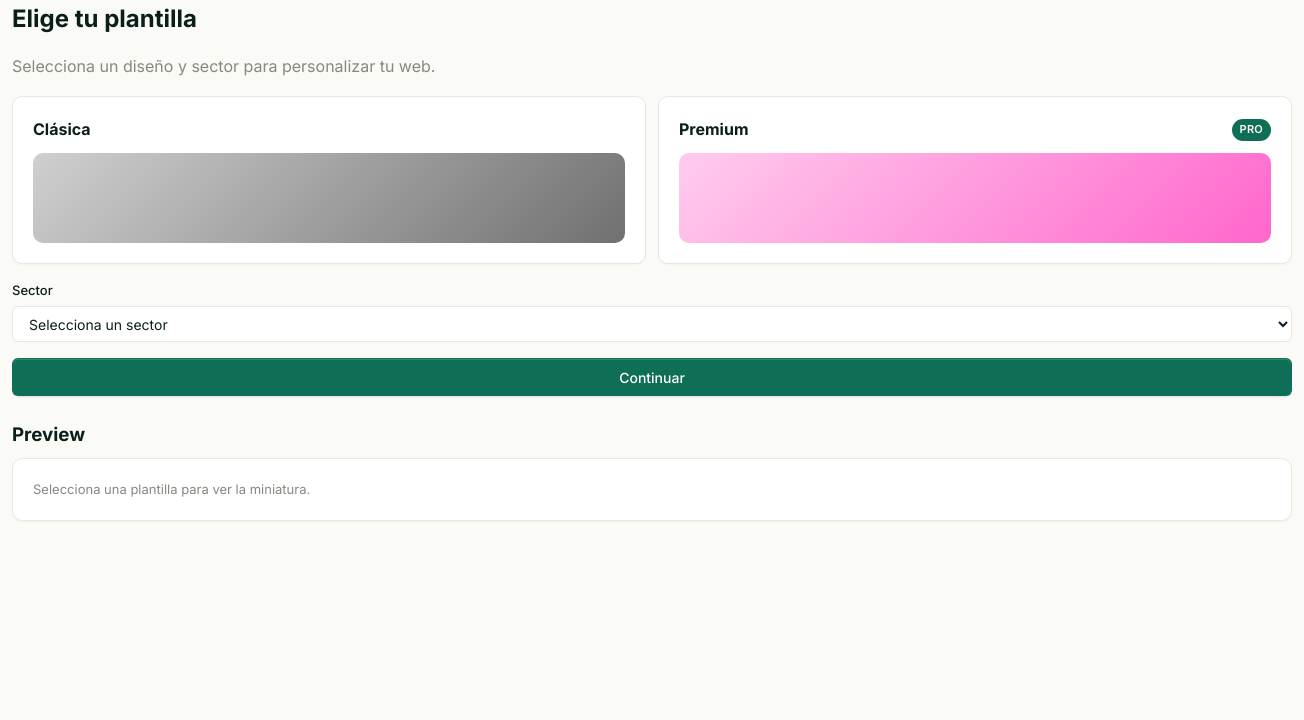
Test: Step1Plantilla › botón Continuar sin selección muestra error
Click the button "Continuar": x=652, y=377 [12,358,1292,396]
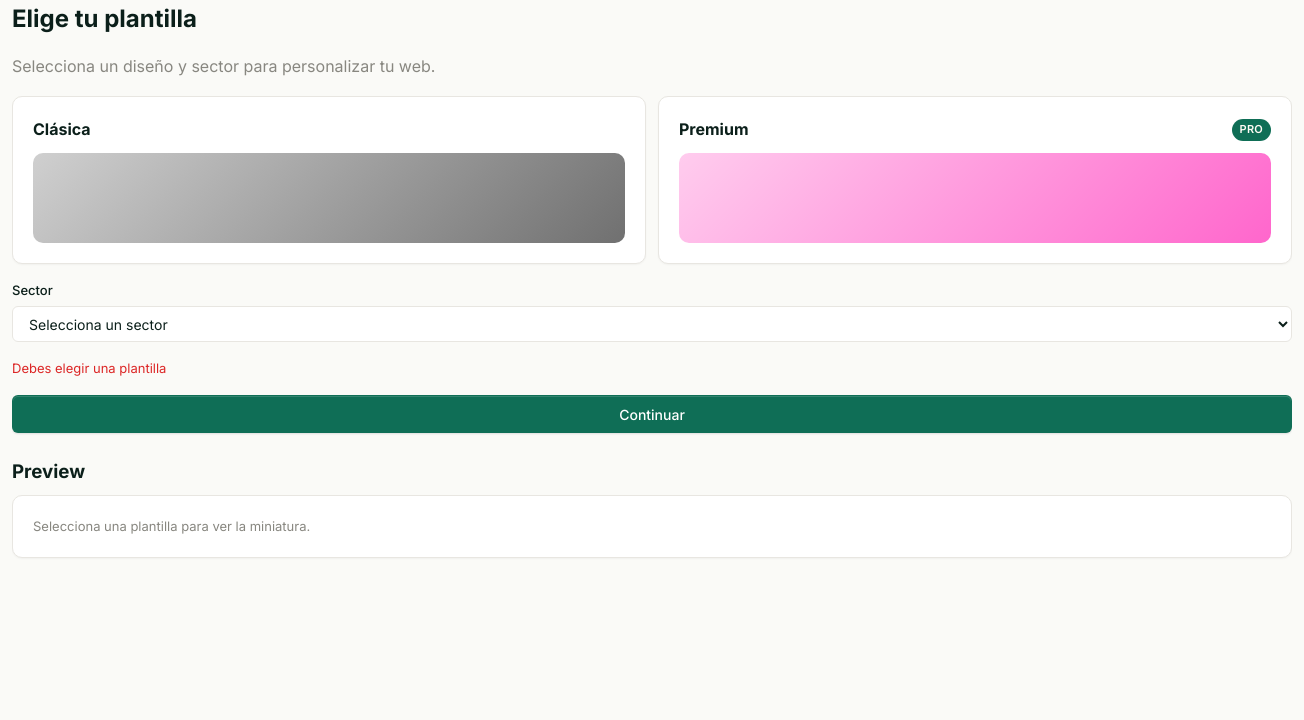
Now the text "Debes elegir una plantilla" is shown, box [12,360,166,376]
